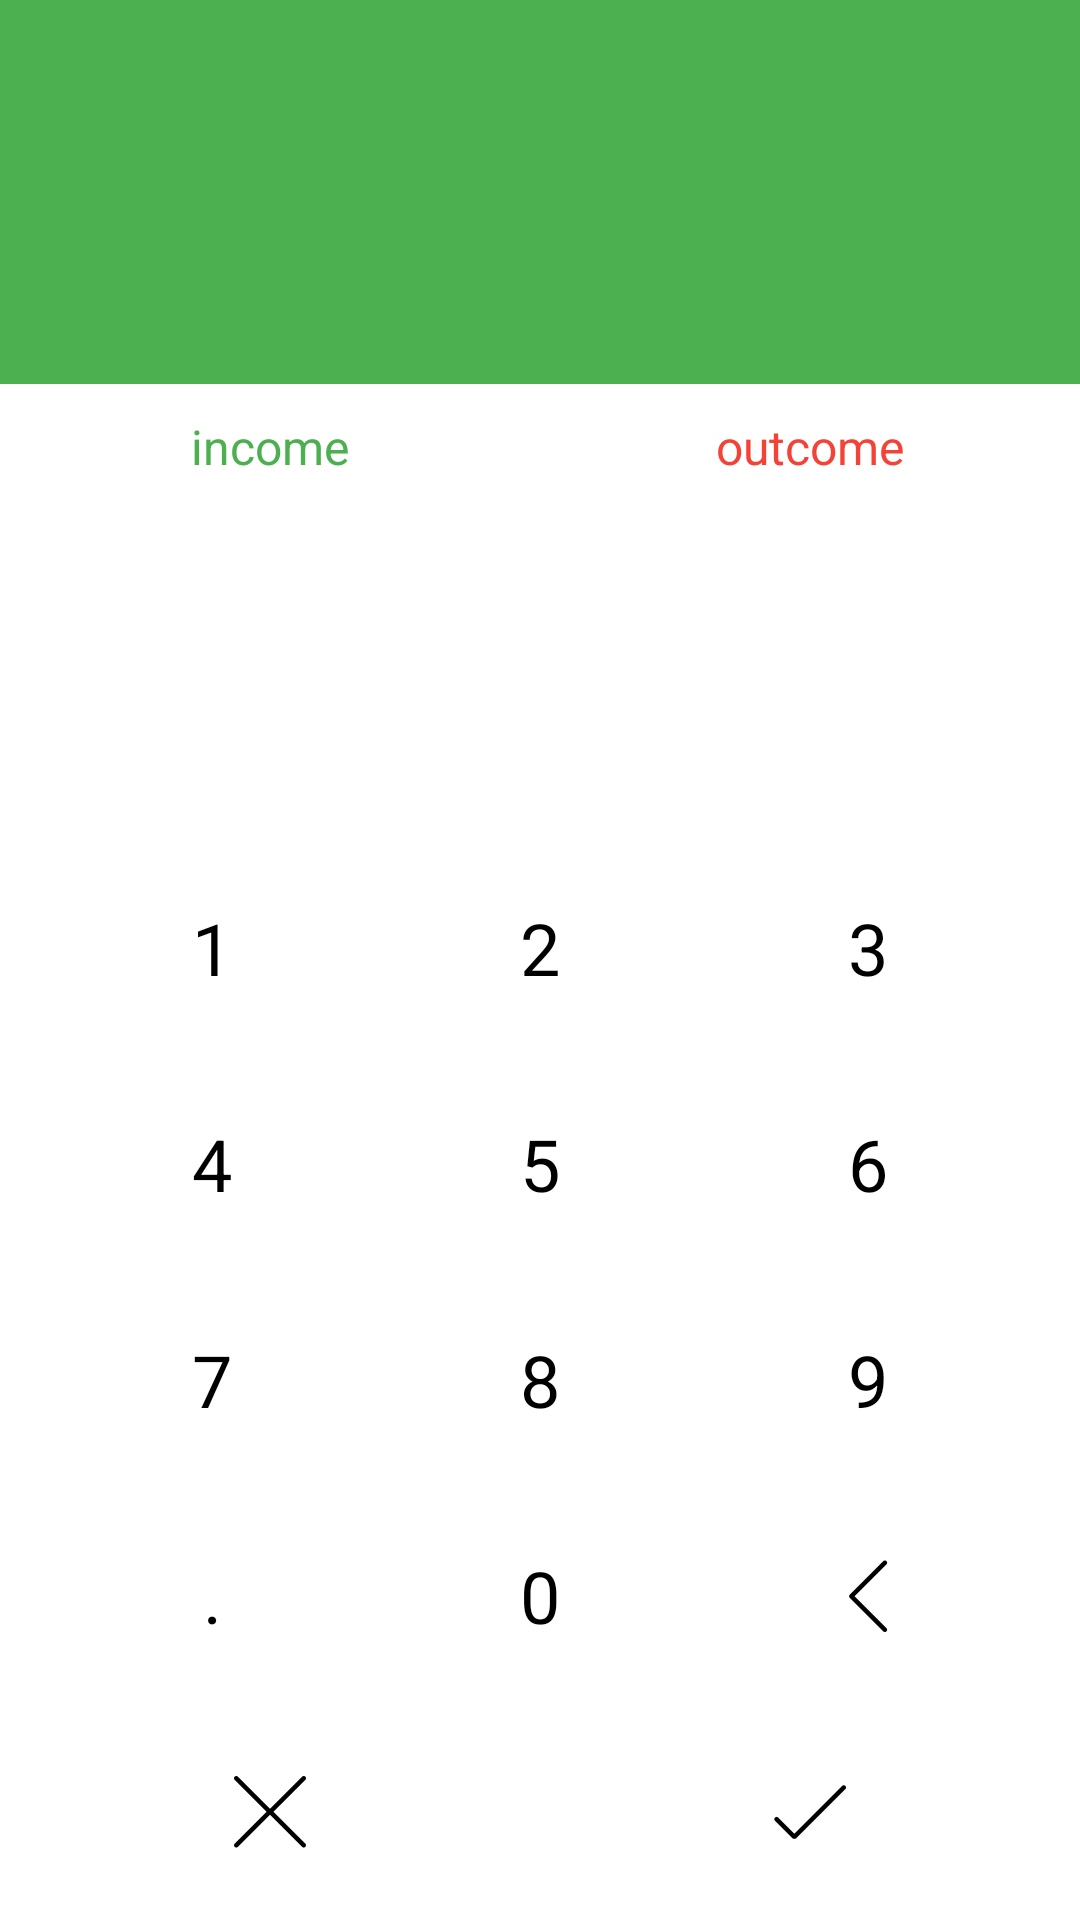

Where to tap for icons on this 1080 x 1920 app screen, as (x=x, y=y):
cancel: (x=270, y=1812)
checked: (x=810, y=1812)
